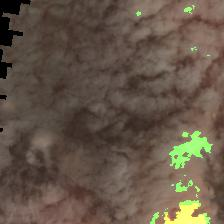landslides: (205, 109, 224, 132), (207, 157, 224, 173), (203, 137, 223, 148)
